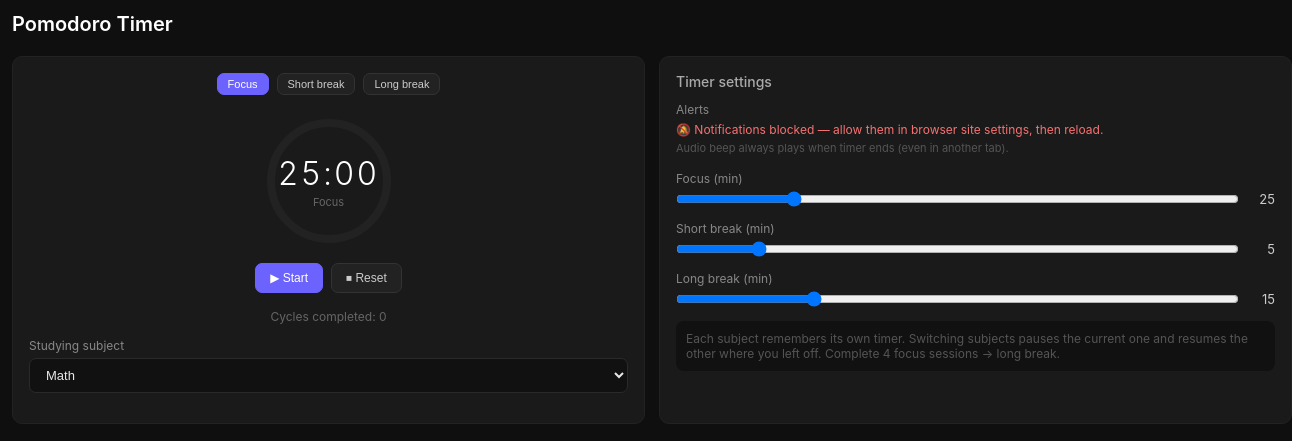
Pomodoro › completing a focus session increments cycles
This screenshot has width=1292, height=441.
Click the button "▶ Start". click: {"x": 289, "y": 278}
box: [255,263,323,293]
Wait 1500000 ms
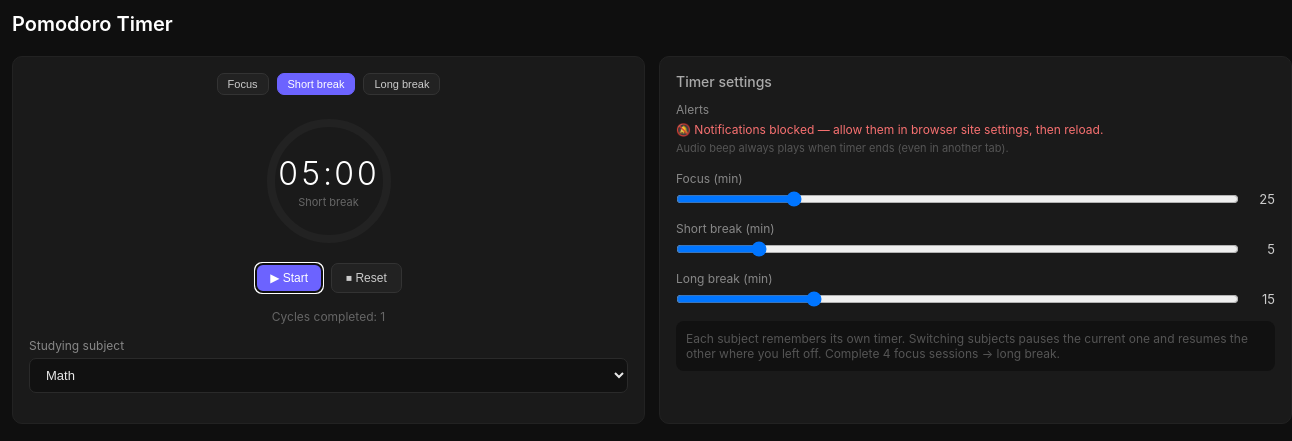
Check: the text "Cycles completed: 1" is shown, box [272,309,385,324]
